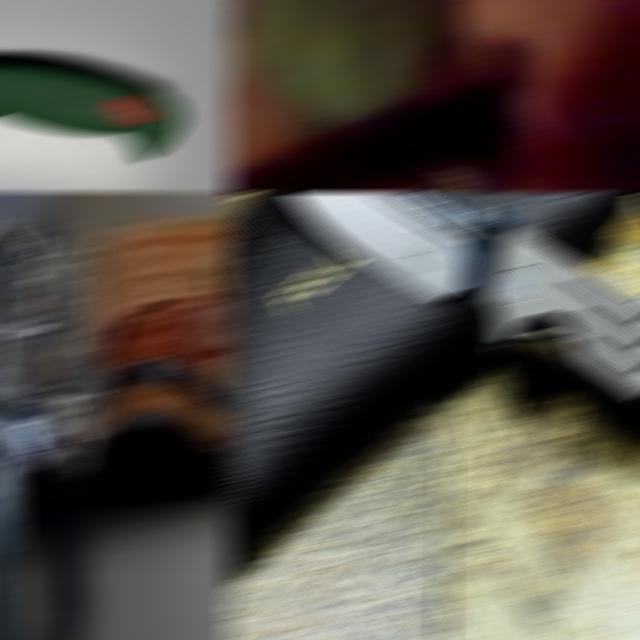Knife: (0, 54, 186, 159)
Knife_Handle: (224, 1, 640, 191)
